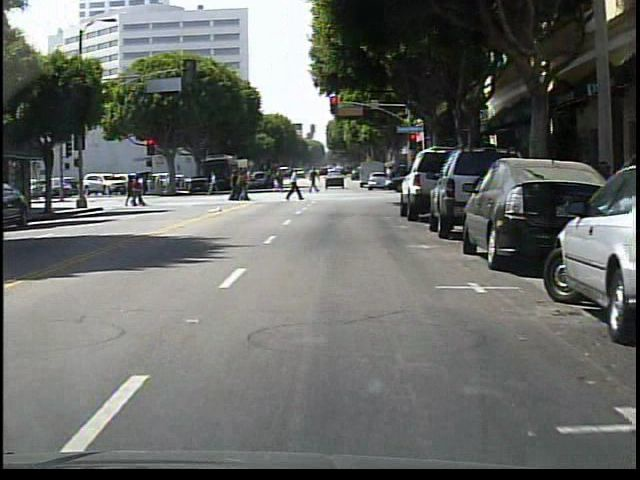person: (284, 166, 305, 204), (202, 167, 221, 197), (304, 167, 323, 196)
